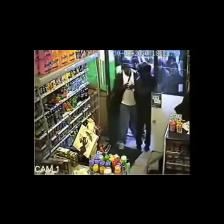person: (113, 59, 138, 149), (135, 62, 157, 151), (162, 62, 182, 95), (175, 92, 189, 121), (158, 59, 169, 85)
